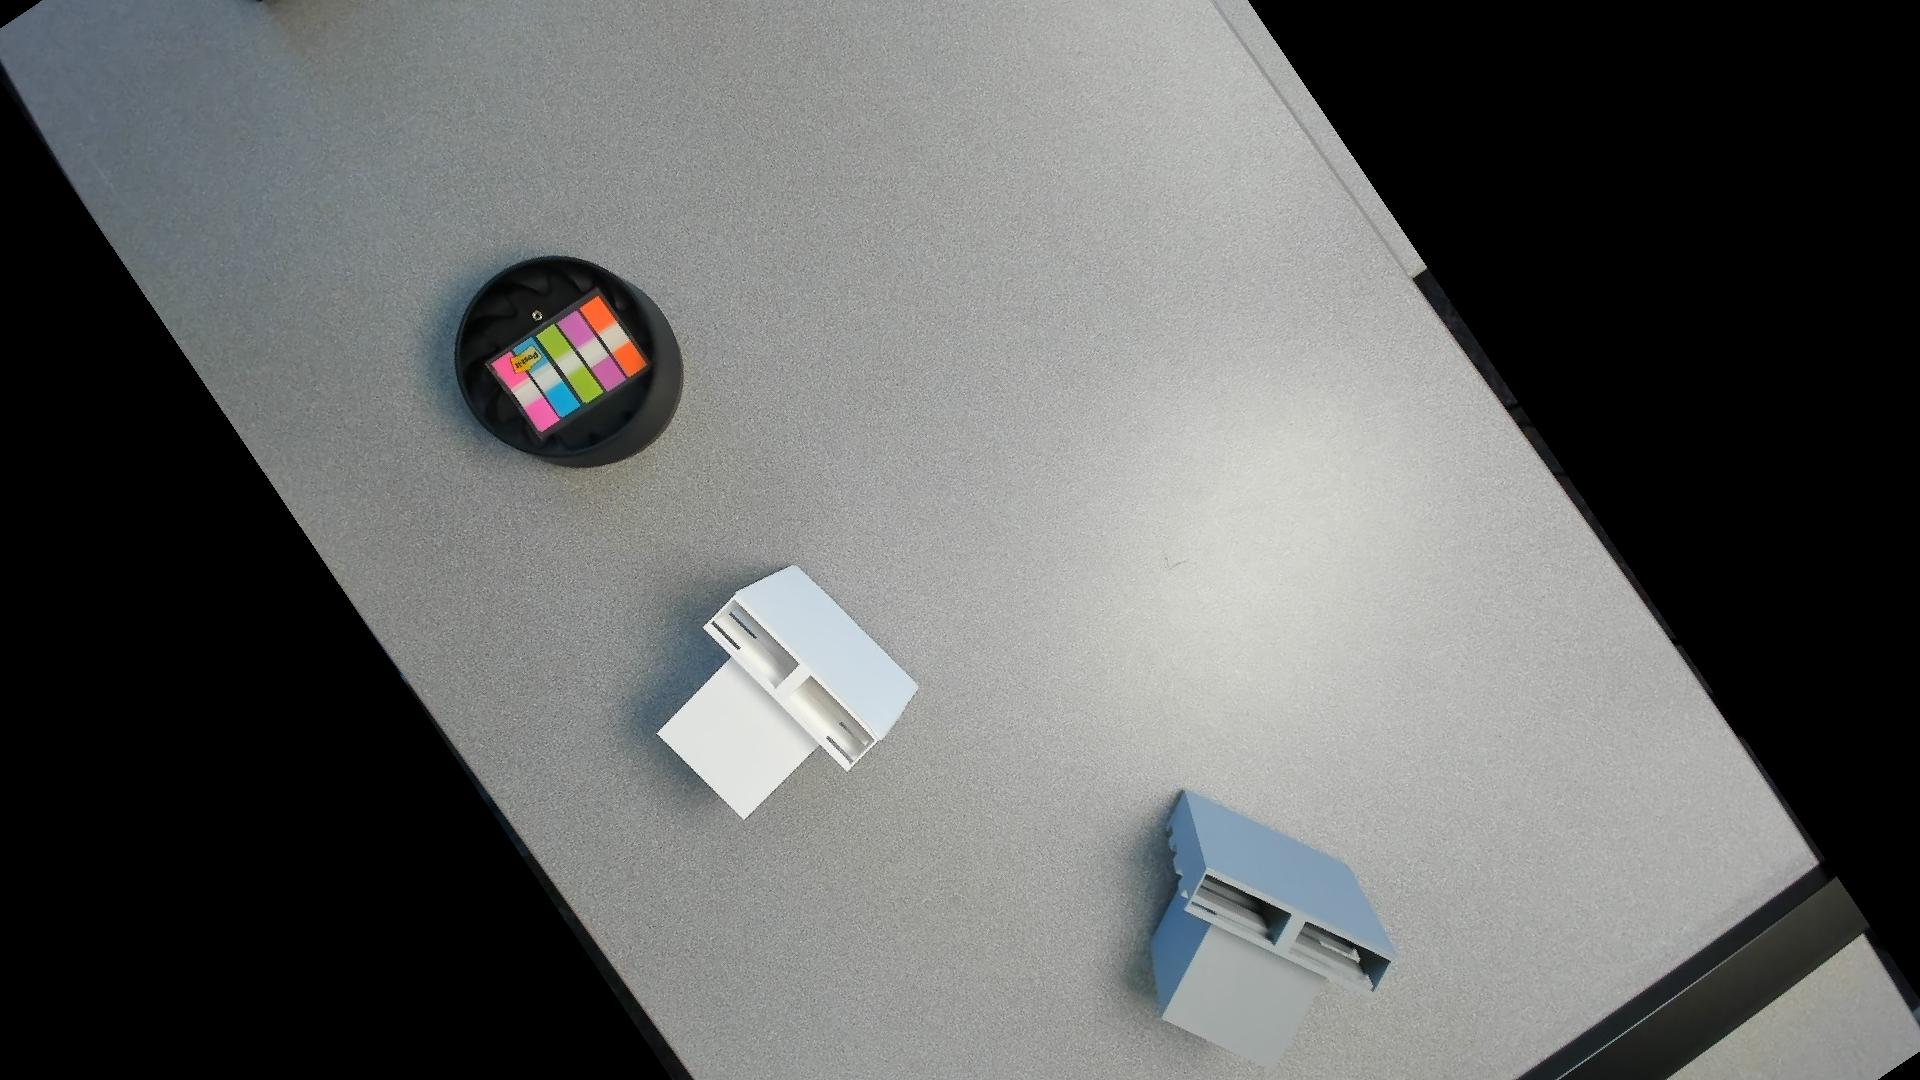grey pallet: (1133, 779, 1399, 1073)
white pallet: (657, 560, 924, 825)
